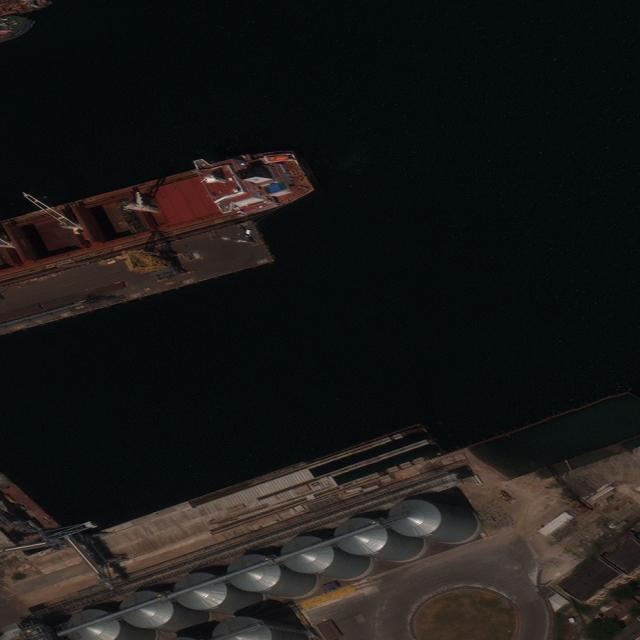Cargo: (1, 149, 323, 281)
